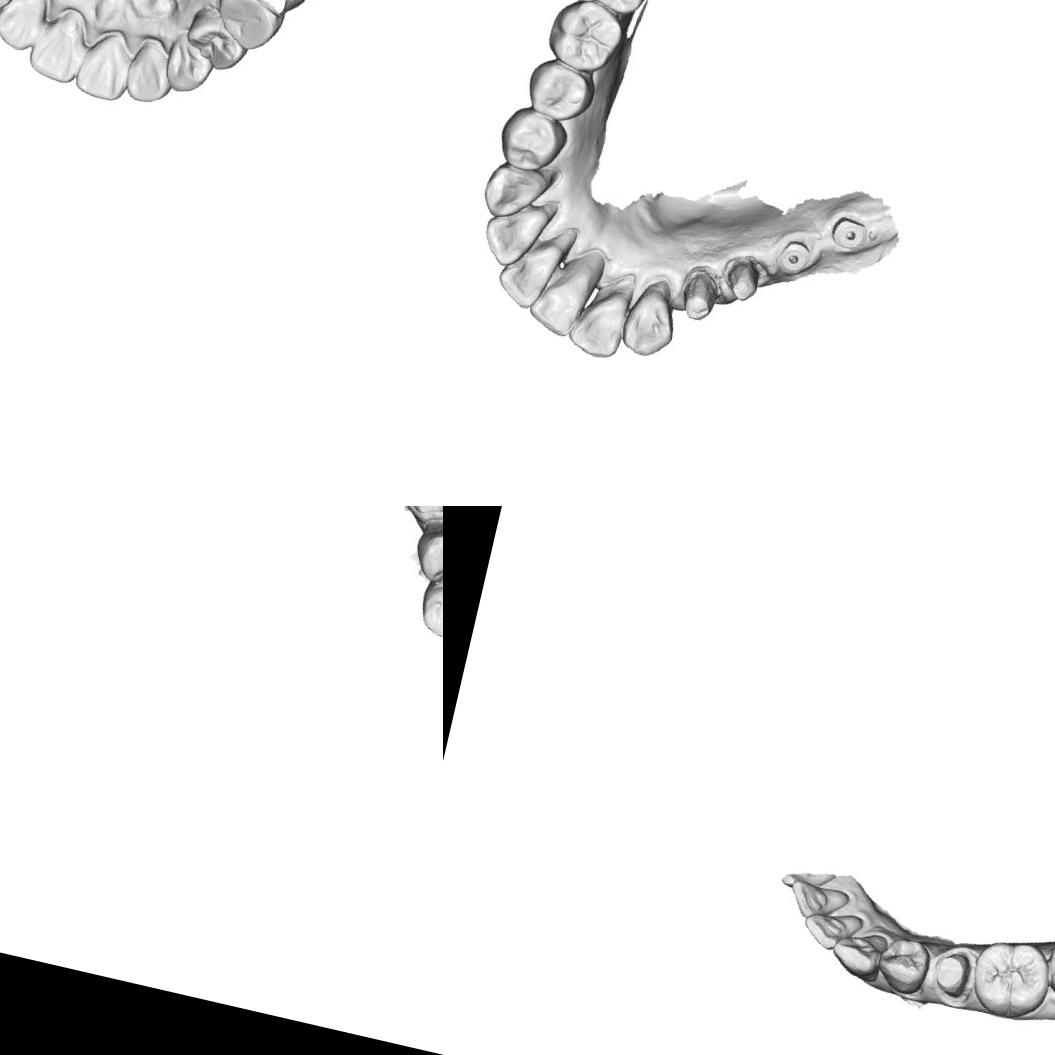canine: (616, 279, 684, 362), (478, 160, 546, 224), (825, 921, 894, 984), (157, 33, 218, 100)
crown: (926, 940, 979, 1006), (677, 267, 724, 328), (720, 252, 768, 308)
implant: (770, 232, 812, 280), (828, 212, 870, 255)
incisor: (24, 1, 92, 88), (70, 22, 138, 104), (526, 262, 594, 342), (493, 238, 563, 315), (565, 284, 633, 362), (478, 201, 545, 274), (122, 38, 179, 108), (782, 876, 856, 928), (798, 902, 866, 956), (0, 0, 51, 56)
molar: (965, 931, 1055, 1026), (541, 0, 627, 78), (208, 0, 291, 58), (578, 0, 662, 18)
premolar: (492, 101, 570, 178), (518, 54, 598, 128), (179, 10, 254, 75), (872, 931, 936, 998), (410, 515, 443, 591), (413, 570, 443, 643)
